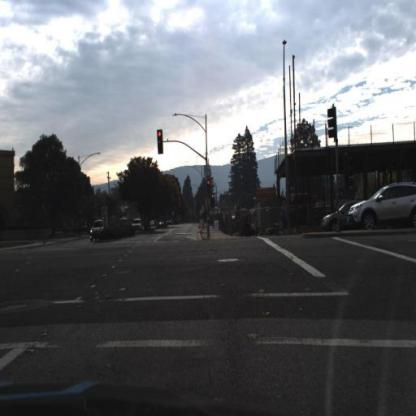car: (346, 184, 416, 228), (321, 199, 359, 234), (325, 200, 362, 230), (89, 217, 110, 245), (91, 217, 105, 243), (132, 215, 144, 236)
pedestrian: (281, 210, 286, 235), (247, 212, 252, 234)
trafficLight-Red: (158, 130, 164, 153), (206, 179, 211, 196)
